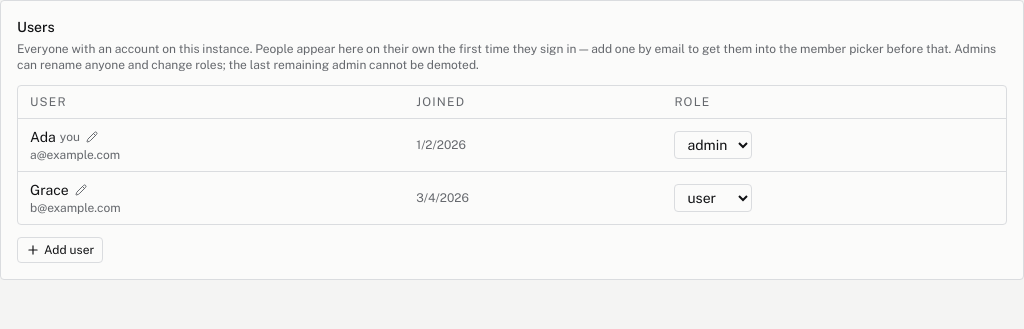
changing a role › explains the last-admin refusal in plain language
Expected: the text "Ada" is shown, [30,127,56,147]
Select "user" in the dropdown named "Role for a@example.com" at [713, 145], box [674,131,752,159]
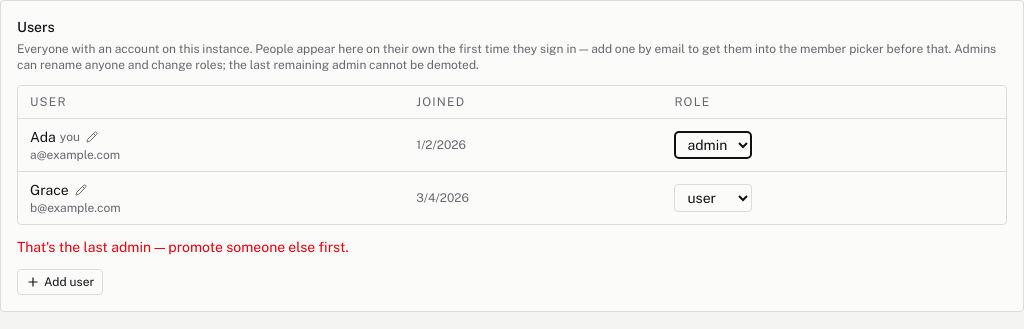
Expected: the message shows "last admin — promote someone else first", [17,239,349,255]
